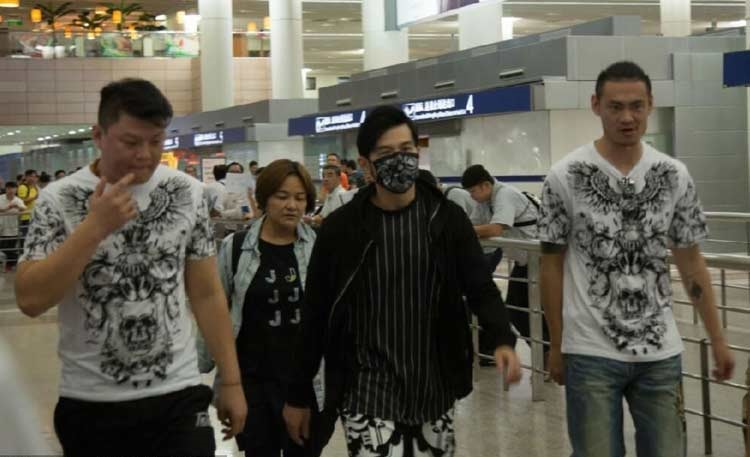face: (109, 117, 163, 184), (603, 82, 650, 143), (267, 178, 306, 227), (466, 180, 489, 200)
face_mask: (373, 130, 420, 189)
